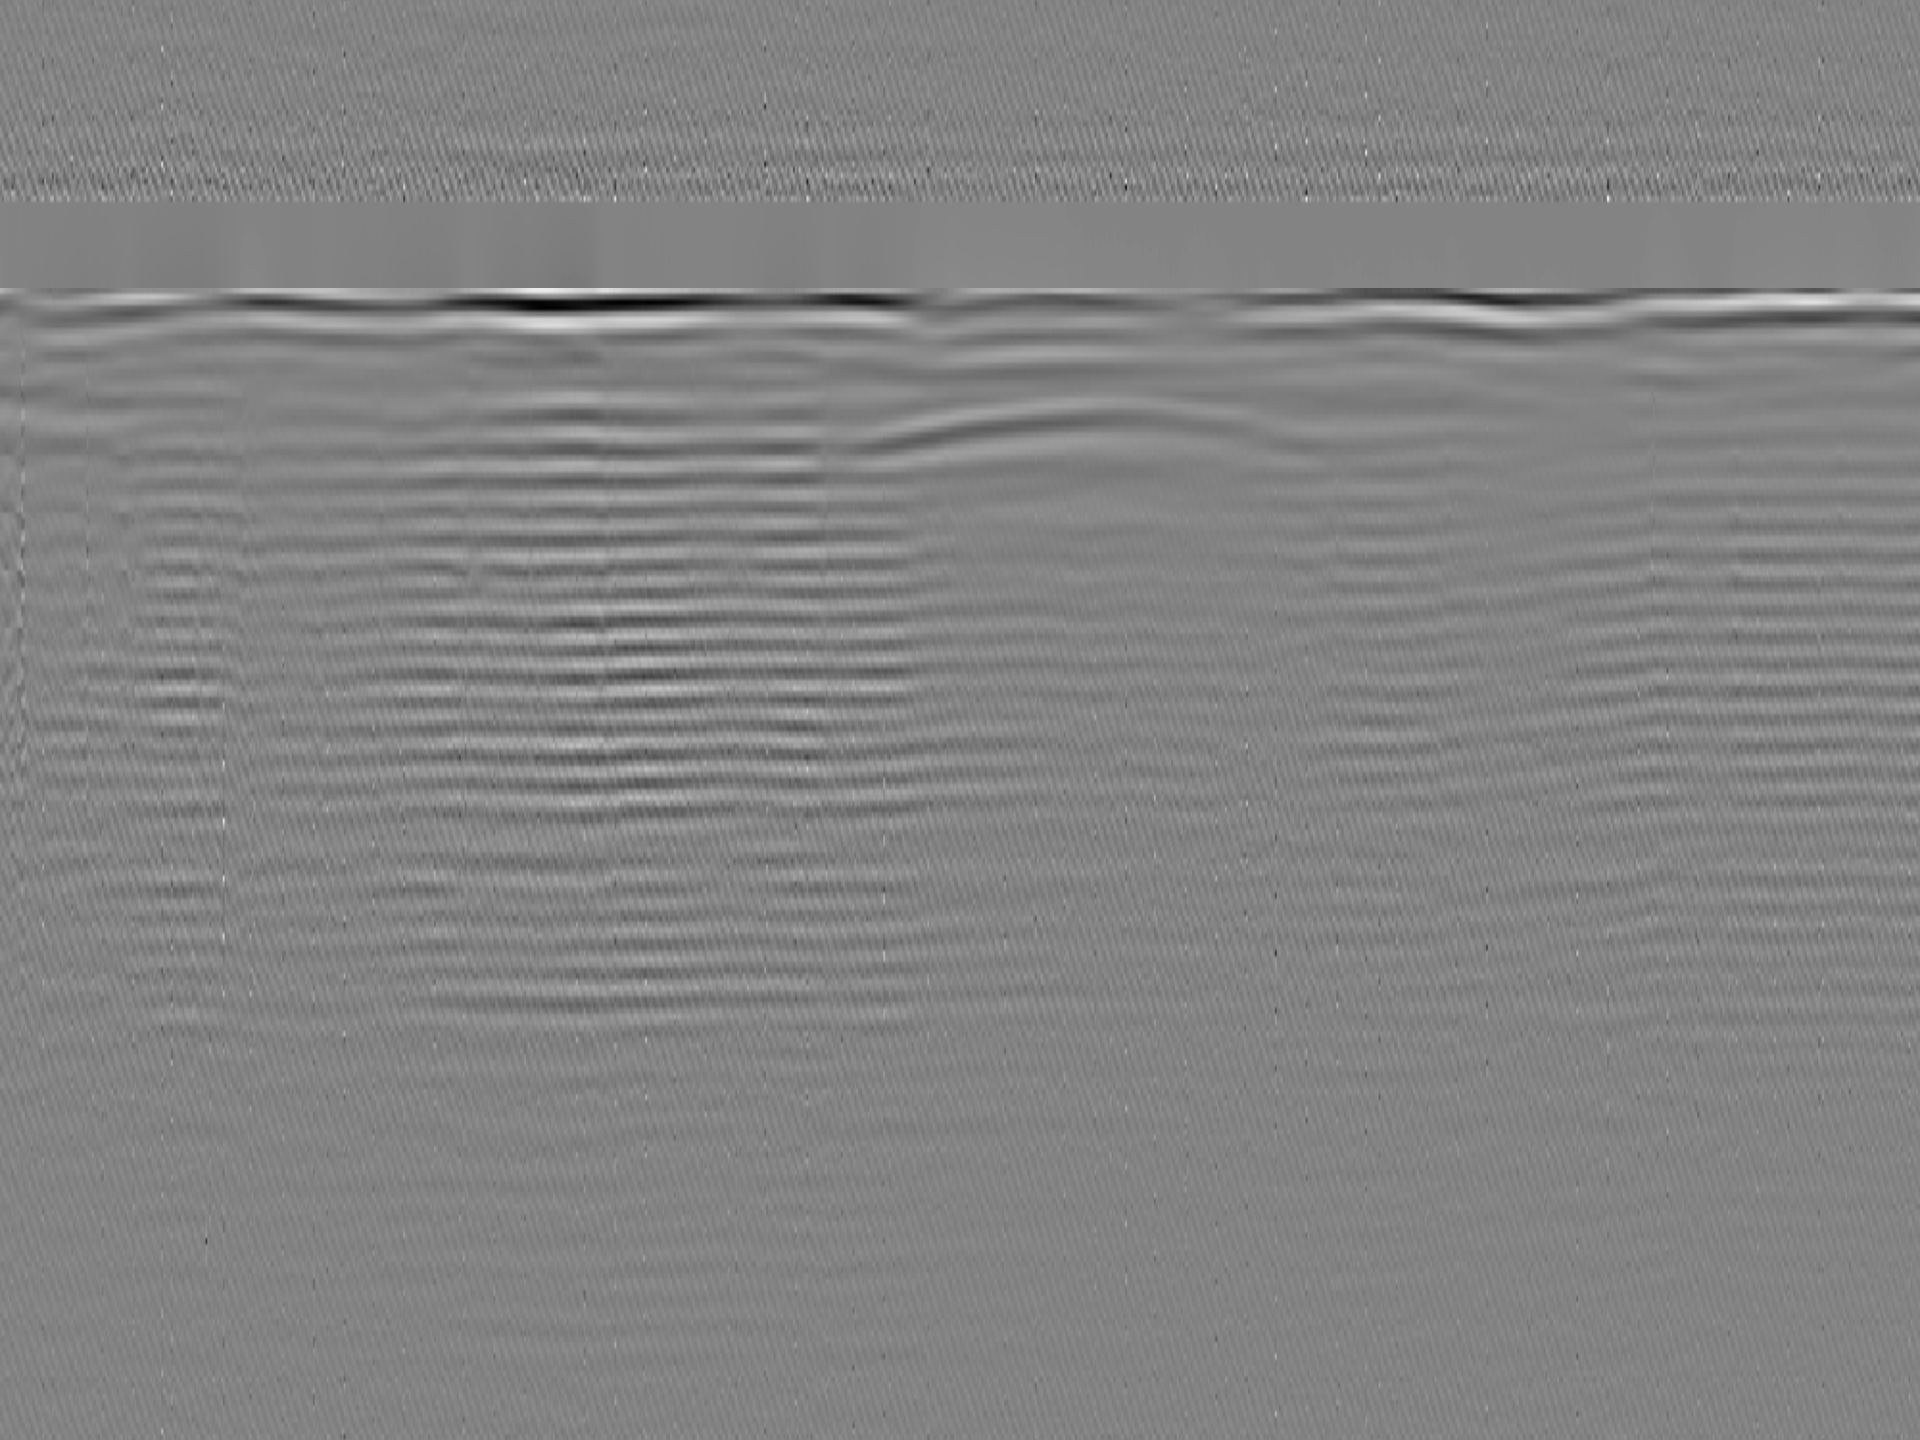Tunnel: (853, 688, 1364, 752)
